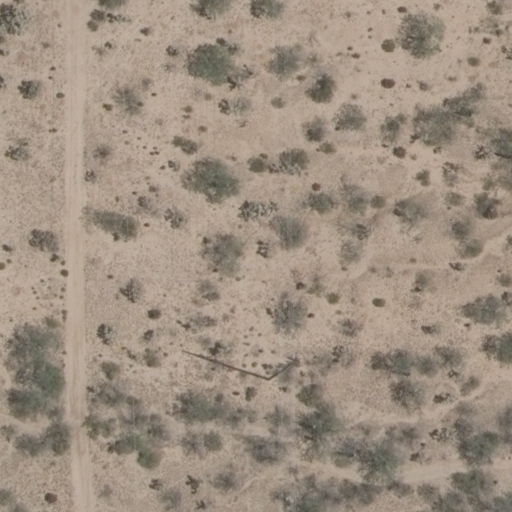DT: (264, 351, 313, 382)
